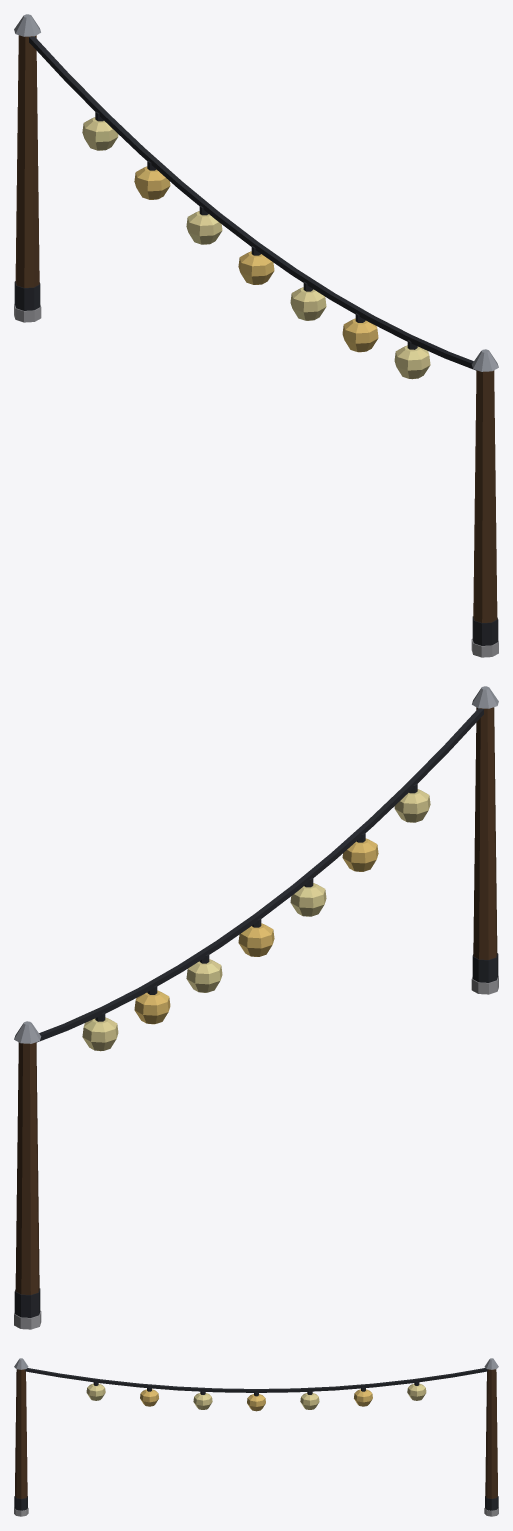
The model's file is Decor_FoodTruck_Lights.fbx.
3 renders of one model, top to bottom at view 1: azimuth 30°, elevation 25°; view 2: azimuth 150°, elevation 25°; view 3: azimuth 270°, elevation 25°, orthographic. The views are drawn at different scales.
Visible parts, largest first — view 1: Lights_Body; view 2: Lights_Body; view 3: Lights_Body.
Boxes of the visible parts, x1,y1,x2,y2 form: Lights_Body: [14, 14, 498, 657]; Lights_Body: [14, 686, 498, 1329]; Lights_Body: [14, 1358, 498, 1516].
Bounding box in the file's own units: 0.9 × 8 × 22.75.
